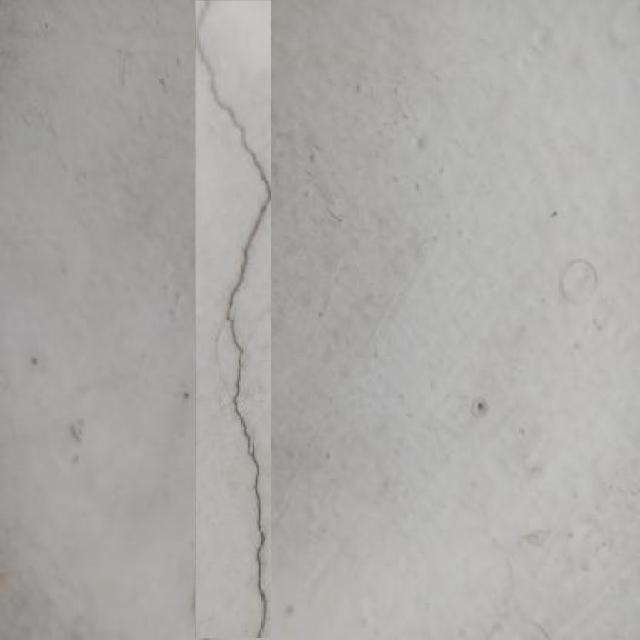Crack: (291, 0, 640, 620), (262, 16, 381, 633), (194, 0, 272, 639), (198, 4, 260, 178), (193, 13, 206, 630), (560, 258, 600, 300), (194, 1, 217, 74)
